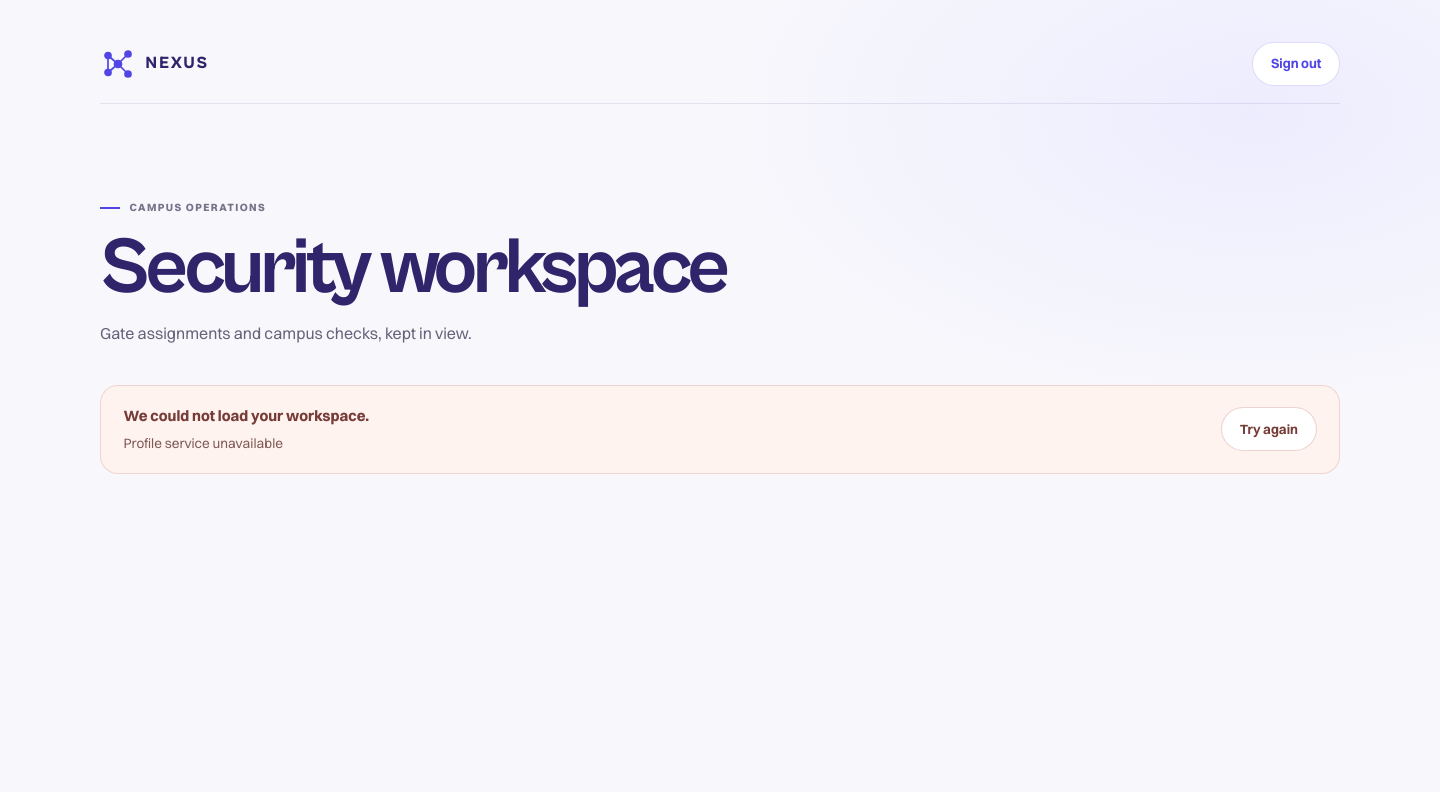
Test: offers an explicit retry when the profile request fails
Expected: the message shows "Profile service unavailable", x1=123 y1=435 x2=283 y2=451
Click the button "Try again" at (1269, 429), box x1=1221 y1=407 x2=1317 y2=451
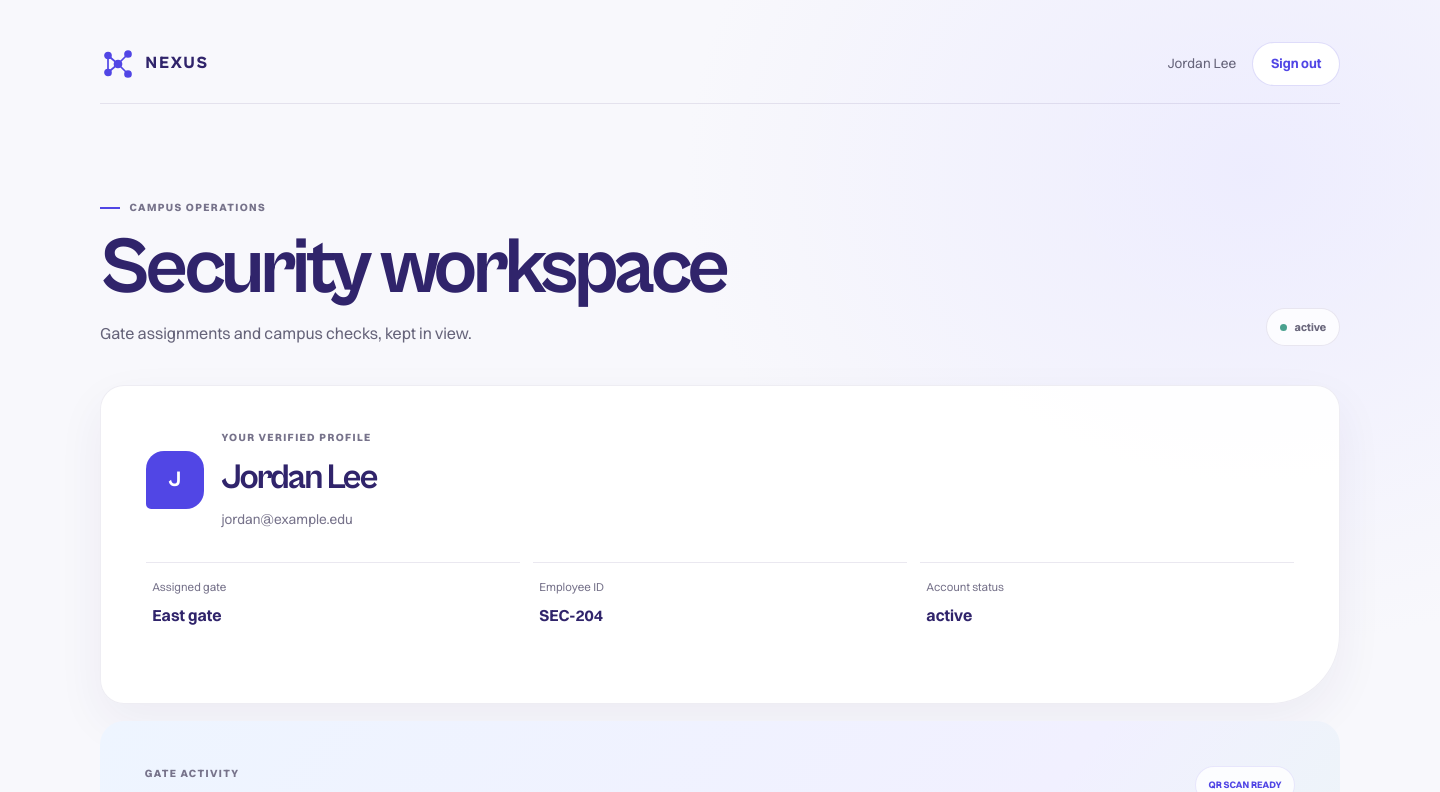
Now the heading "Jordan Lee" is shown, box x1=221 y1=452 x2=377 y2=505
